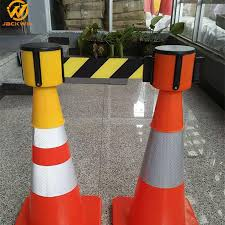cones: (118, 87, 209, 225), (20, 110, 101, 225)
